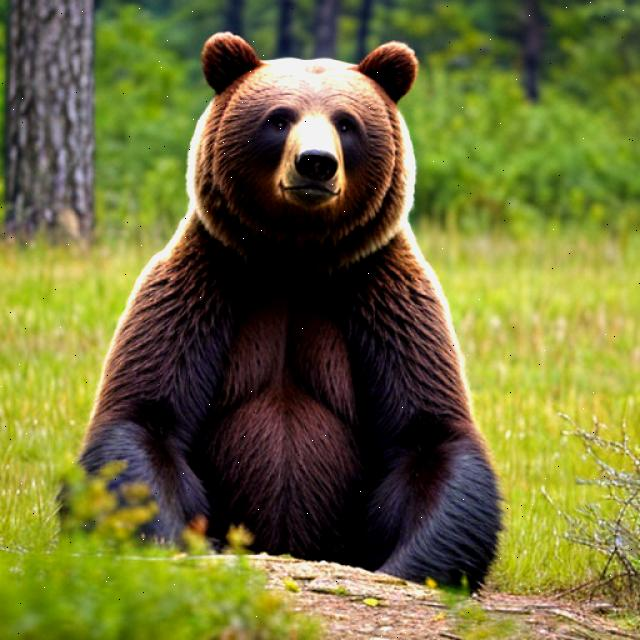bear: (177, 18, 436, 290)
